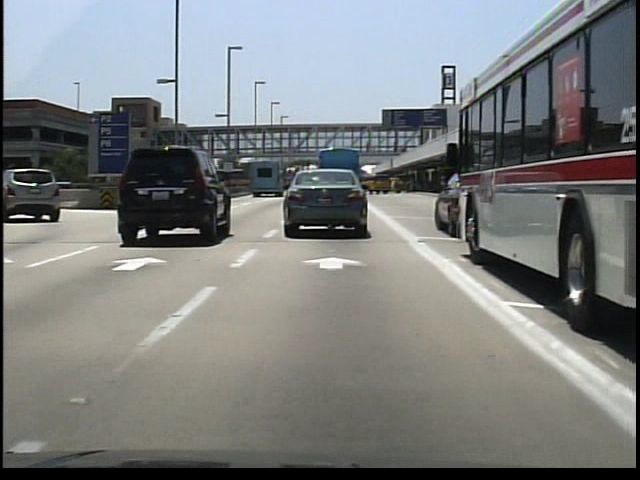person: (389, 136, 402, 158), (360, 136, 373, 156)
